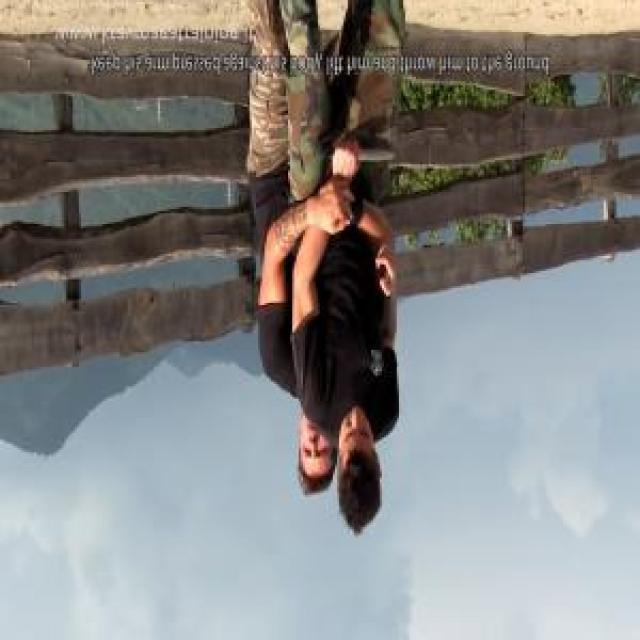knife: (329, 138, 400, 172)
